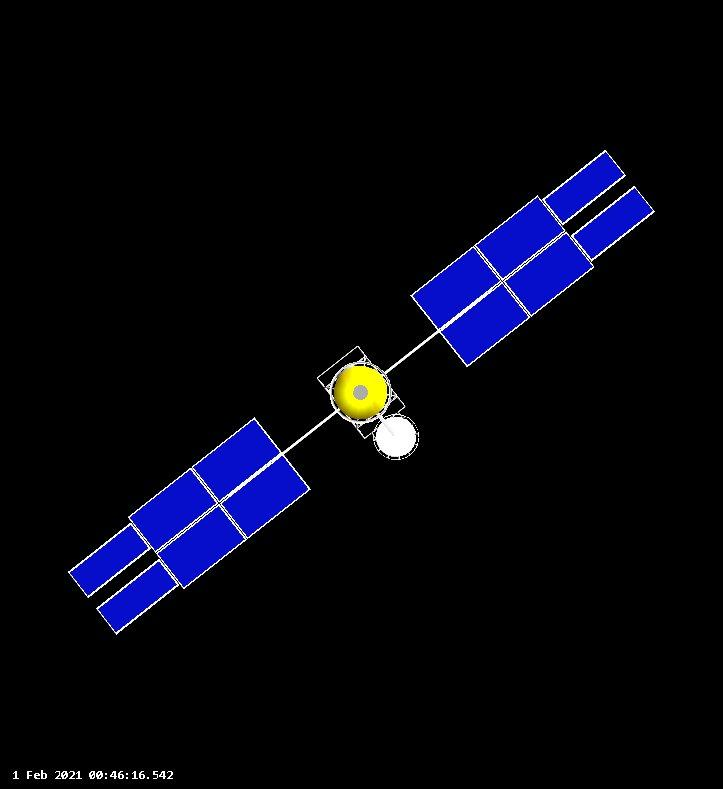antenna: (375, 417, 418, 460)
body: (319, 347, 404, 439)
solar: (404, 193, 593, 369), (130, 417, 314, 589), (540, 149, 627, 227), (69, 522, 152, 600), (570, 186, 655, 262), (97, 559, 180, 634)
